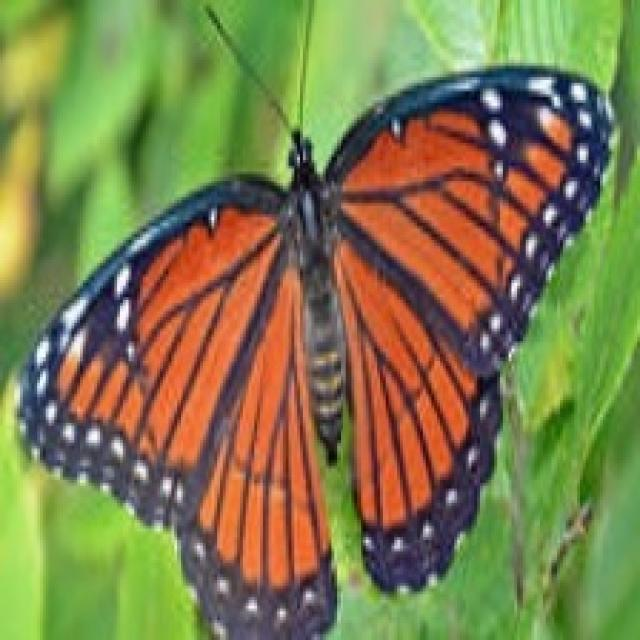butterfly: (12, 0, 614, 637)
